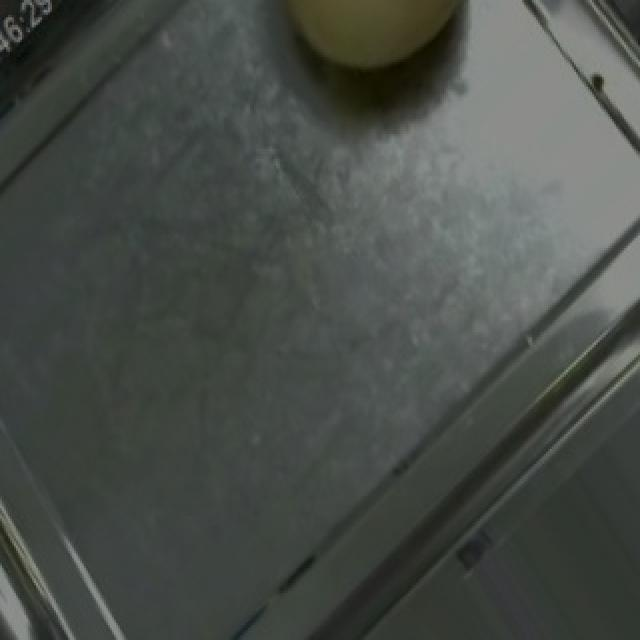Fruit: (242, 0, 500, 109)
